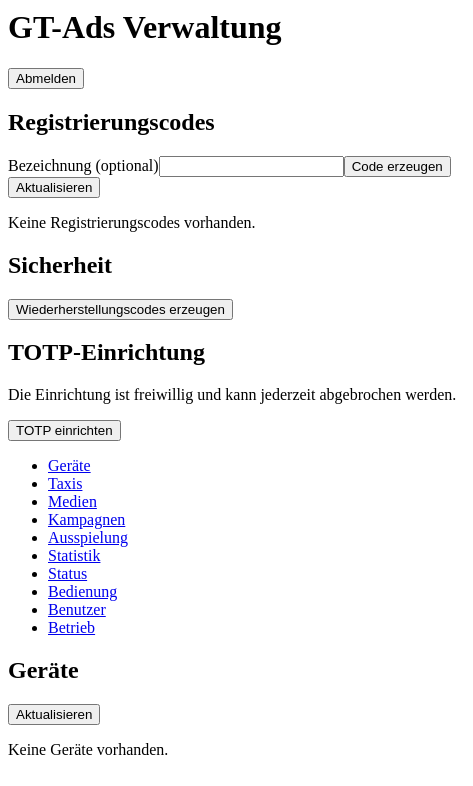
Test: CX-059 Benutzerliste › zeigt den Leerzustand, entfernt Daten beim Aktualisieren sofort, meldet Fehler ohne alte Liste und verwirft überholte Ergebnisse
Later steps or results of the test are not shown.
Check: the heading "Geräte" is shown, box [8,657,79,683]
Click the link "Benutzer": (77, 610) [48,601,106,618]
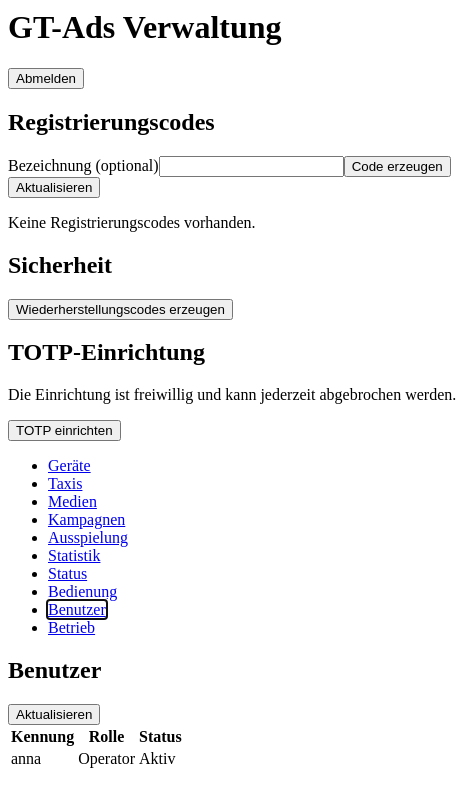
Check: the heading "Benutzer" is shown, box [8,657,101,683]
Check: the text "anna" is shown, box [10,749,75,769]
Click the 2nd button "Aktualisieren": (54, 715) [8,704,100,725]
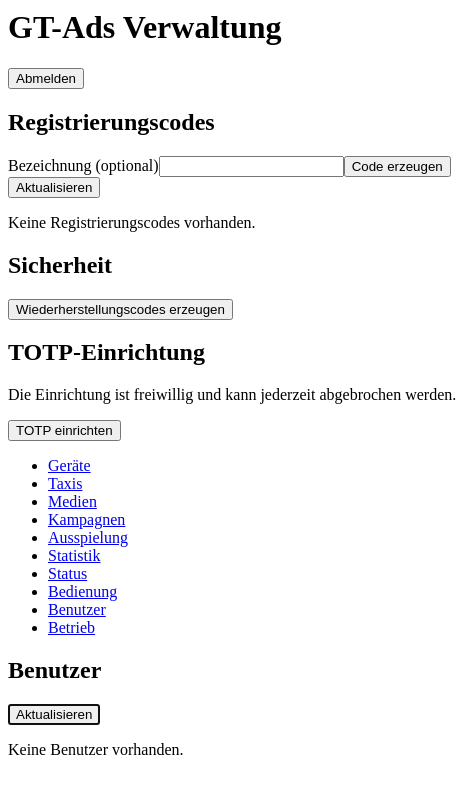
Check: the text "anna" is gone
Check: the text "Keine Benutzer vorhanden." is shown, box [8,741,184,758]
Click the 2nd button "Aktualisieren": (54, 715) [8,704,100,725]
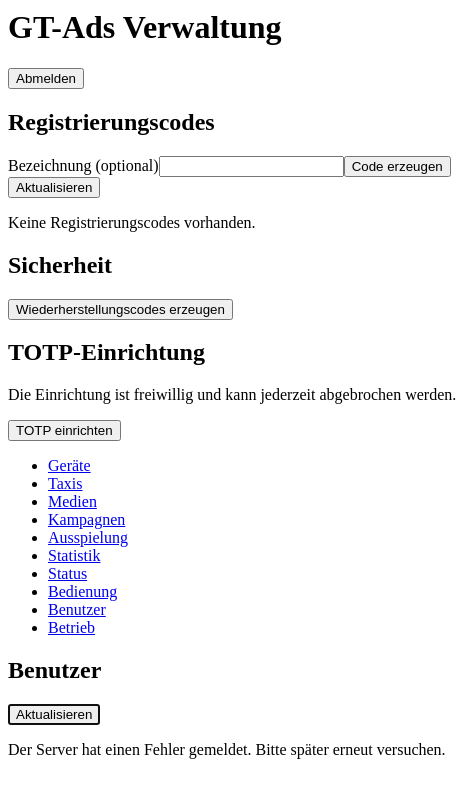
Check: the text "anna" is not shown
Check: the text "Keine Benutzer vorhanden." is gone
Check: the message "Der Server hat einen Fehler gemeldet. Bitte später erneut versuchen." is shown, box [8,741,446,758]
Click the 2nd button "Aktualisieren": (54, 715) [8,704,100,725]
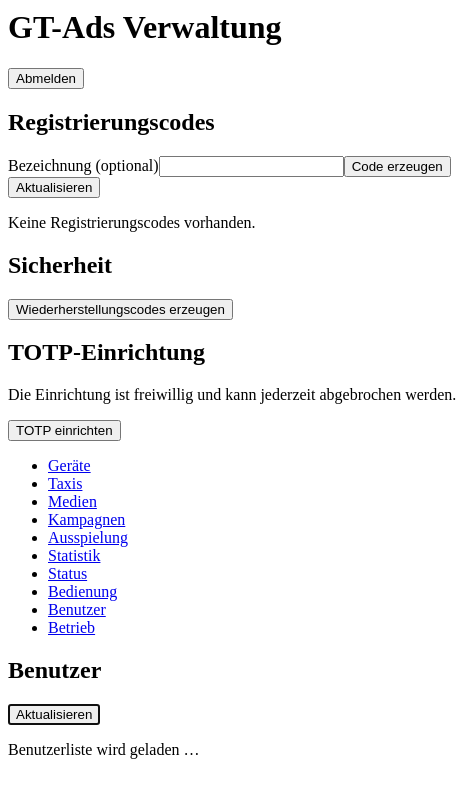
Click the 2nd button "Aktualisieren": (54, 715) [8,704,100,725]
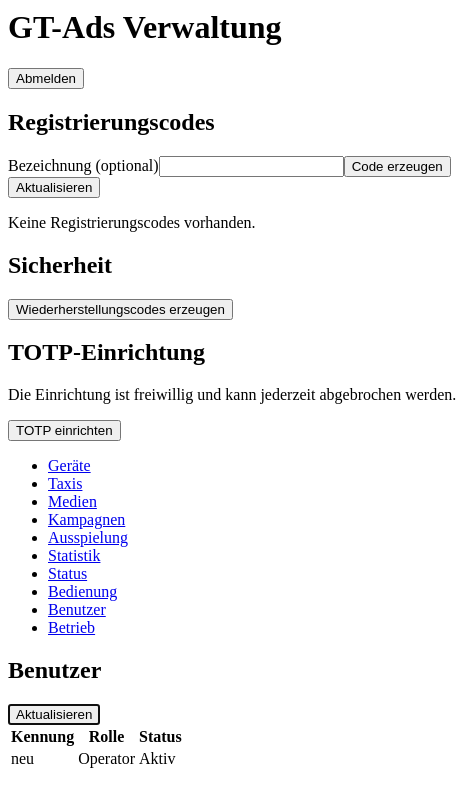
Check: the text "neu" is shown, box [10,749,75,769]
